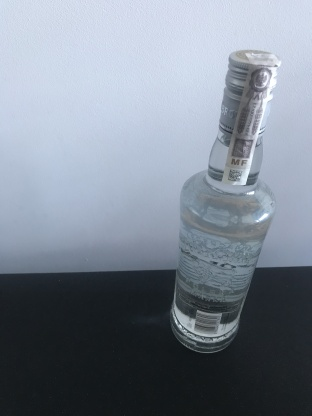nakretka: (216, 46, 283, 137)
